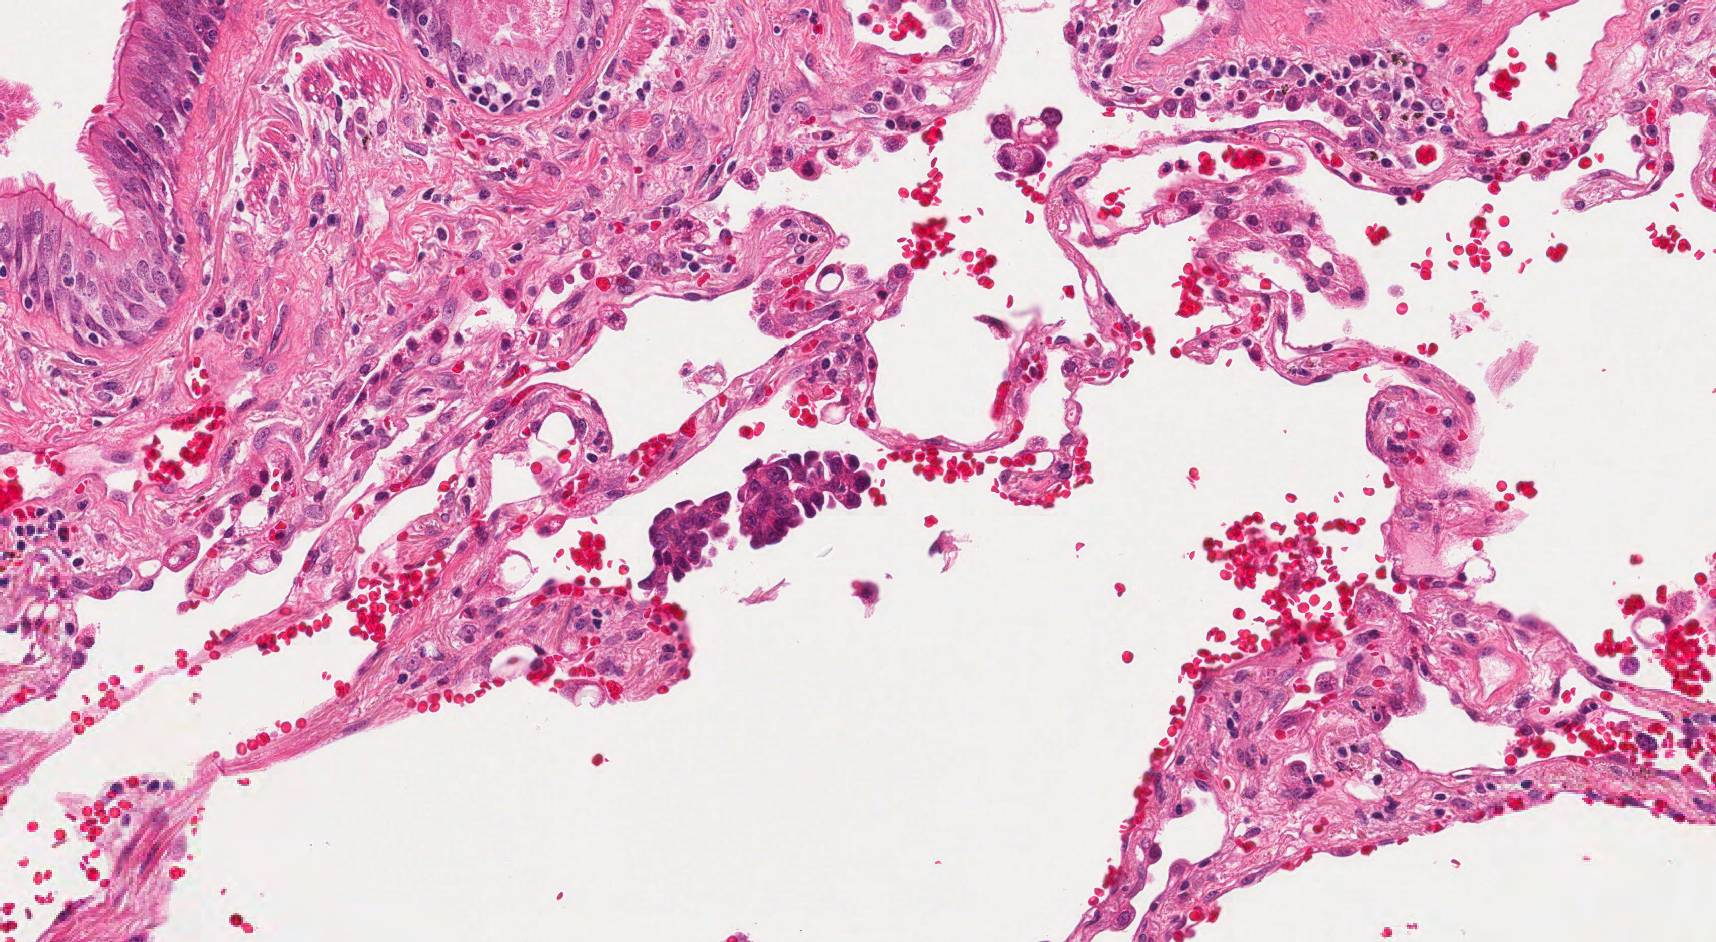stas: (734, 454, 873, 550), (640, 490, 732, 590), (989, 106, 1064, 173)
